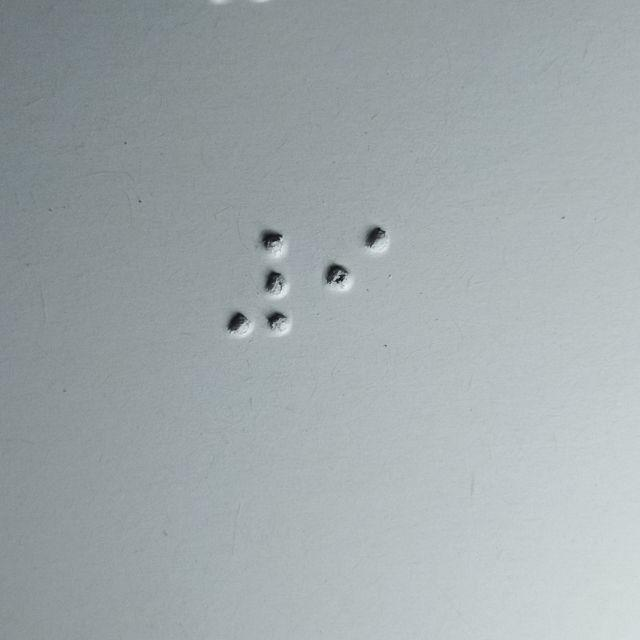9: (321, 227, 389, 340)
number: (222, 228, 296, 341)
